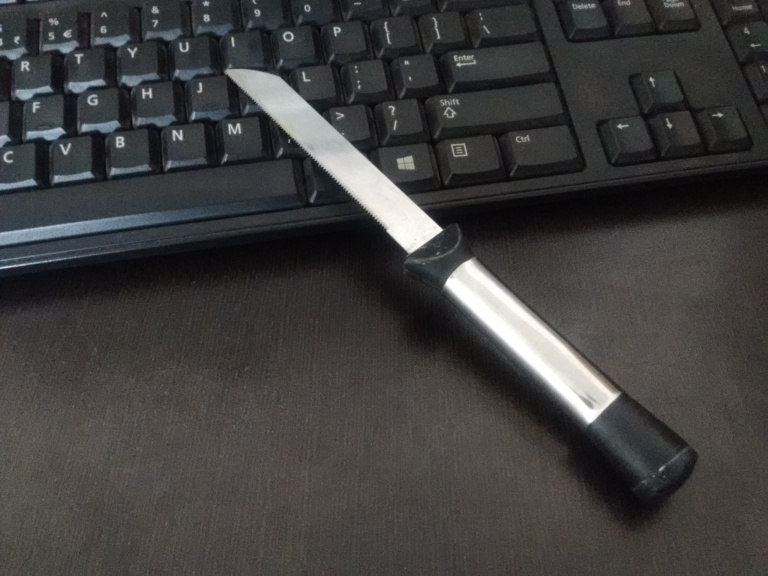knife: (222, 63, 701, 512)
